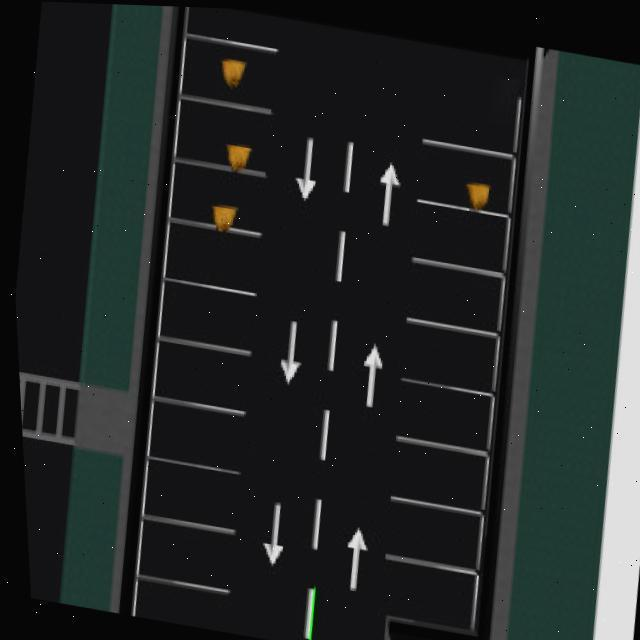garbage-trXY: (462, 182, 493, 210), (226, 141, 252, 174), (219, 56, 246, 87), (209, 205, 237, 230)
